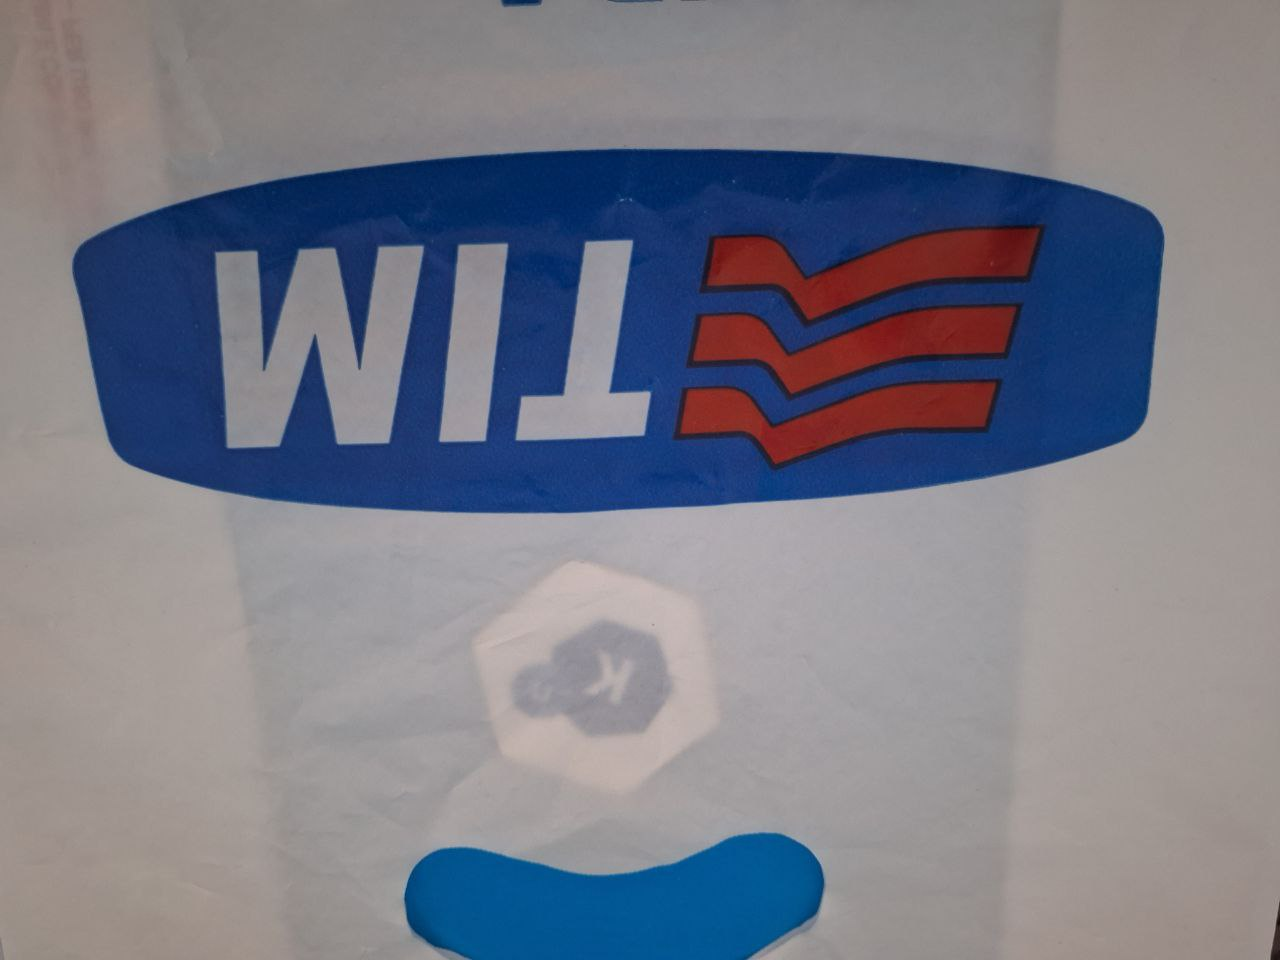knative: (509, 616, 676, 740)
